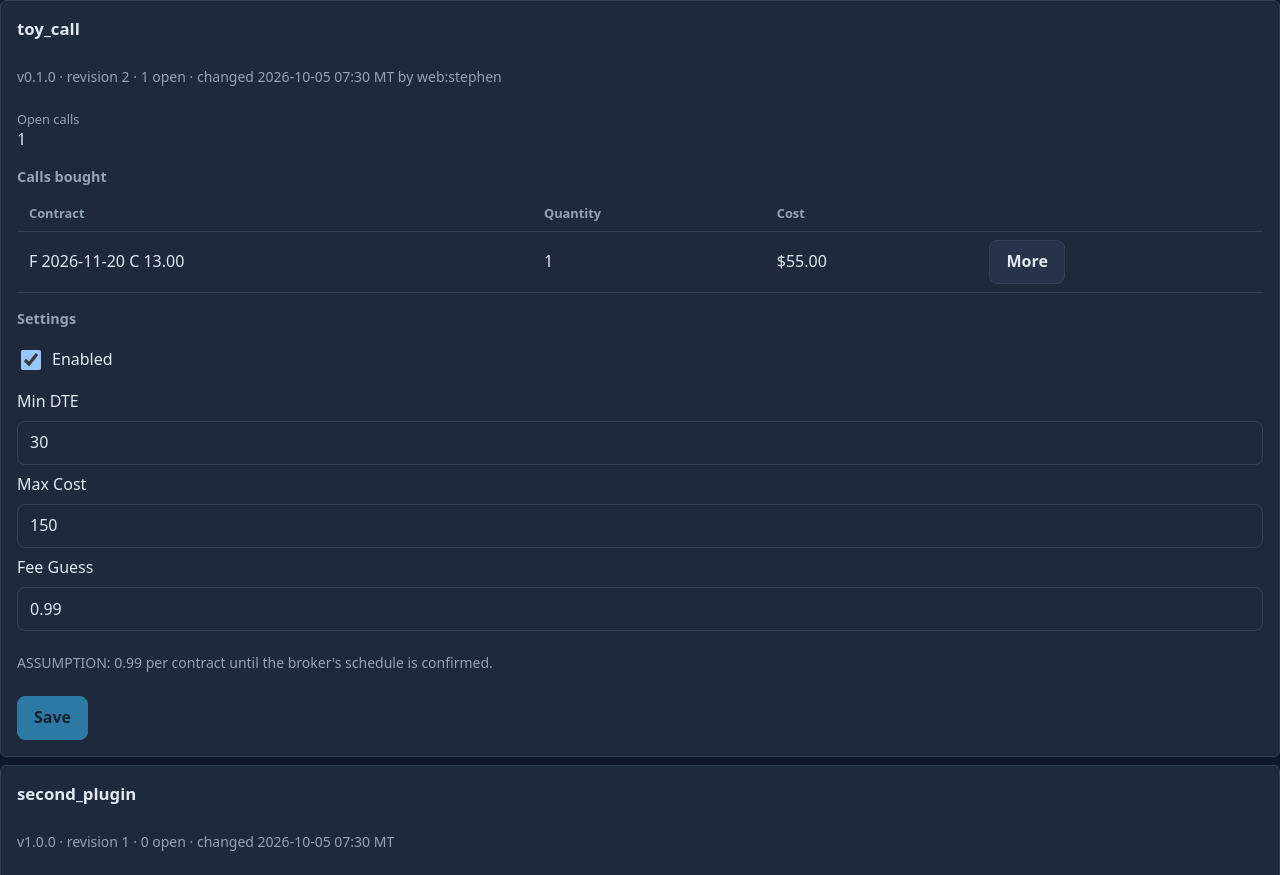
Test case: StrategiesTab › a changed param is sent alone; a 422 shows the server's message under that field
Replace the text in the number field labelled "Min DTE" with "0" at point(640, 443), box [17,421,1263,465]
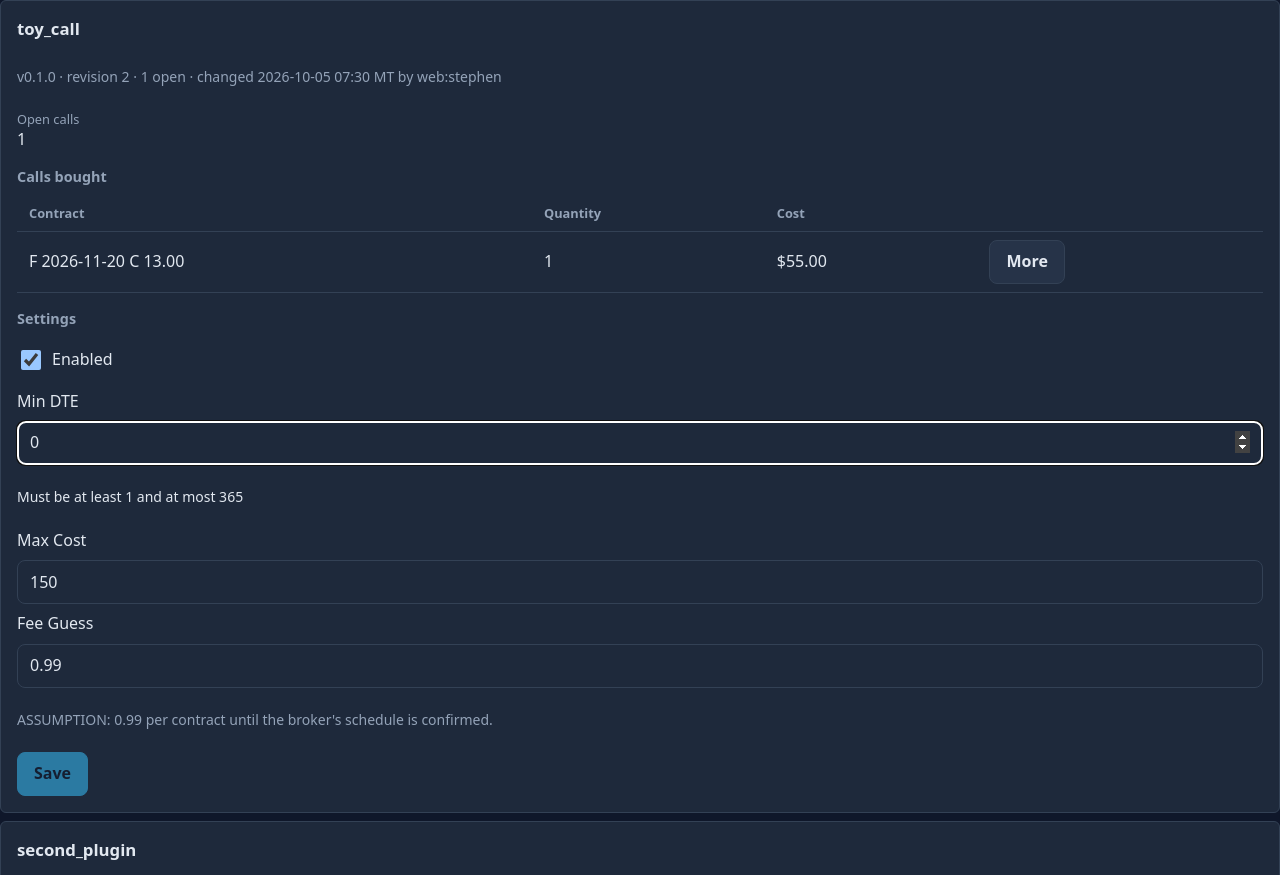
Expected: the button "Save" is disabled, [17,752,88,796]
Result: the text "Must be at least 1 and at most 365" is shown at [17,487,243,506]
Replace the text in the number field labelled "Min DTE" with "90" at point(640, 443), box [17,421,1263,465]
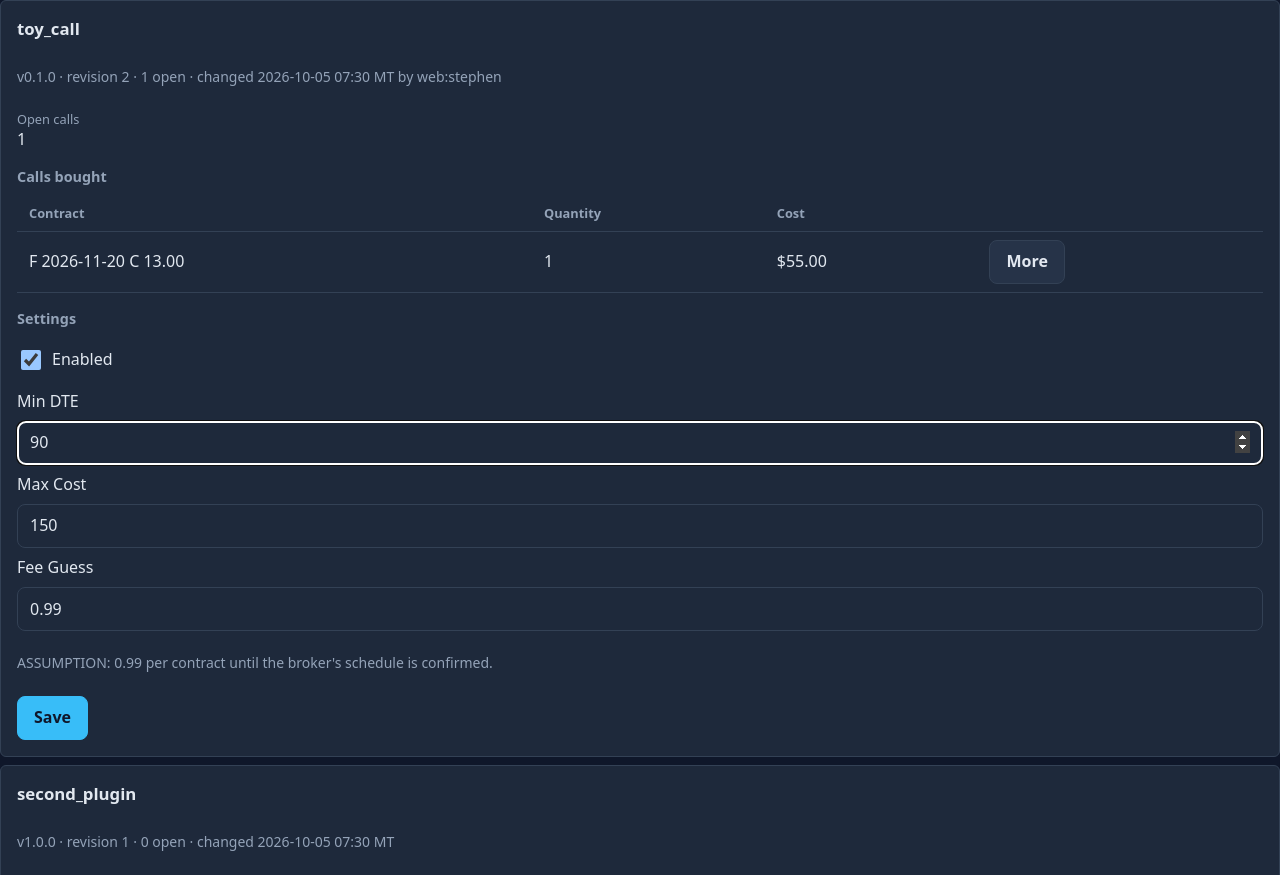
Click the button "Save" at point(52, 718), box [17,696,88,740]
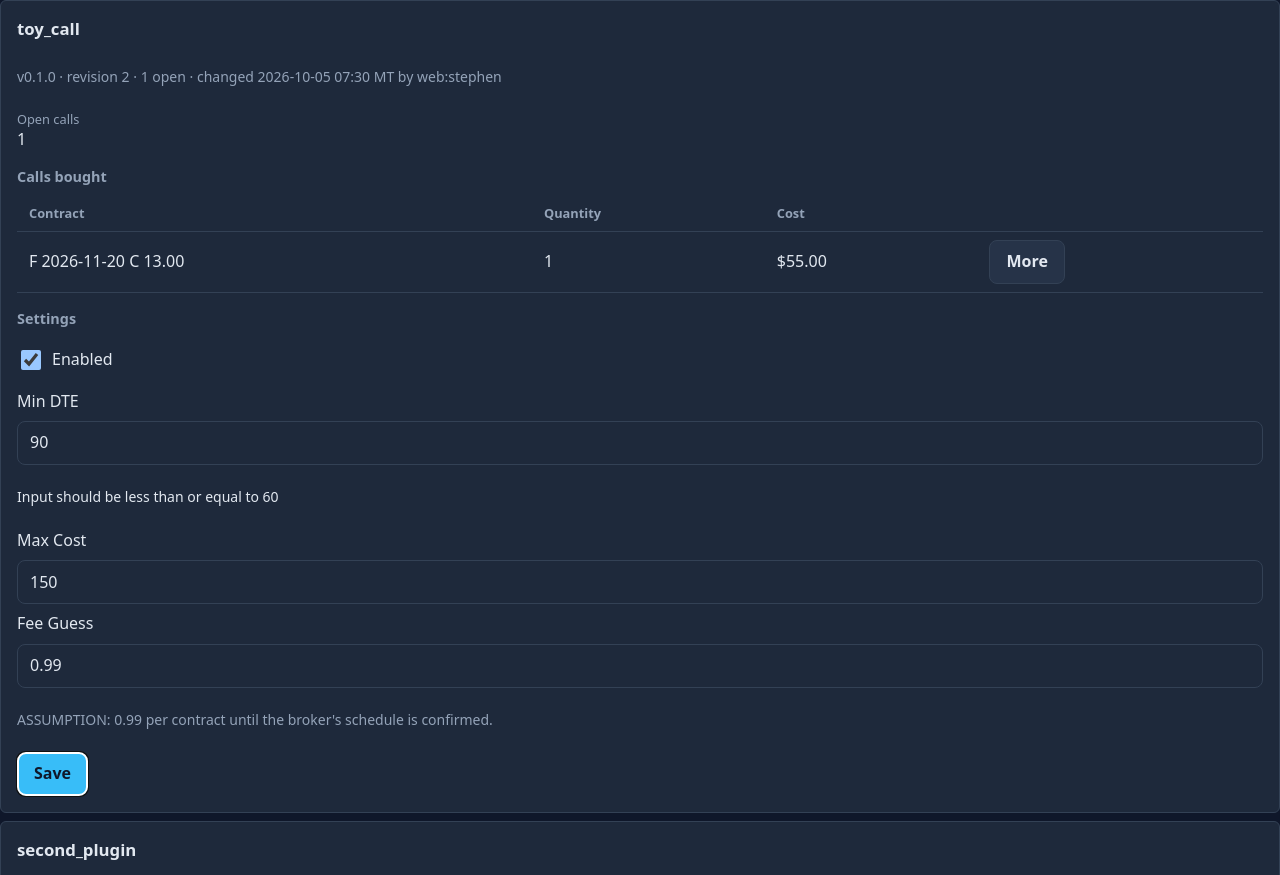
Result: the text "Input should be less than or equal to 60" is shown at [17,487,279,506]
